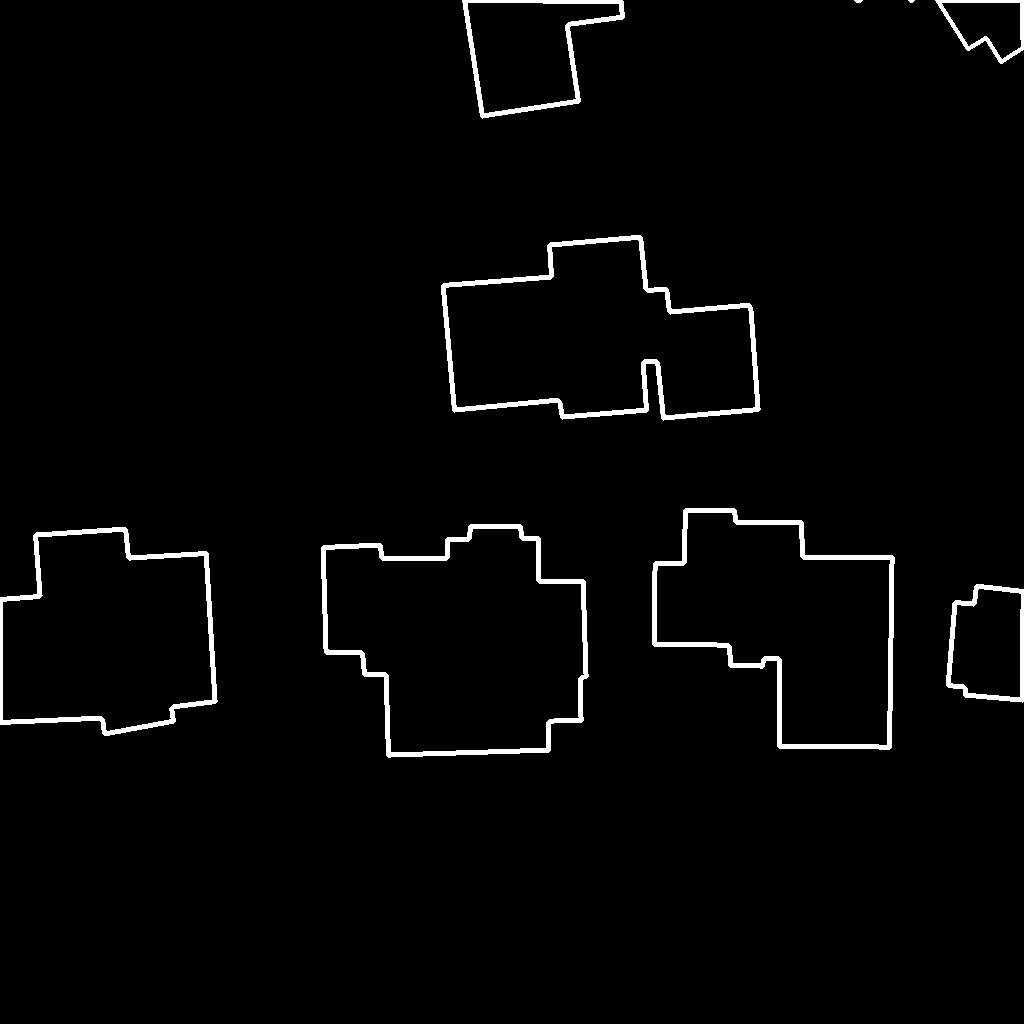building: (323, 526, 587, 756), (443, 237, 759, 419), (654, 510, 893, 748), (0, 529, 216, 735), (464, 0, 624, 117), (855, 0, 1024, 63), (948, 586, 1024, 701)
